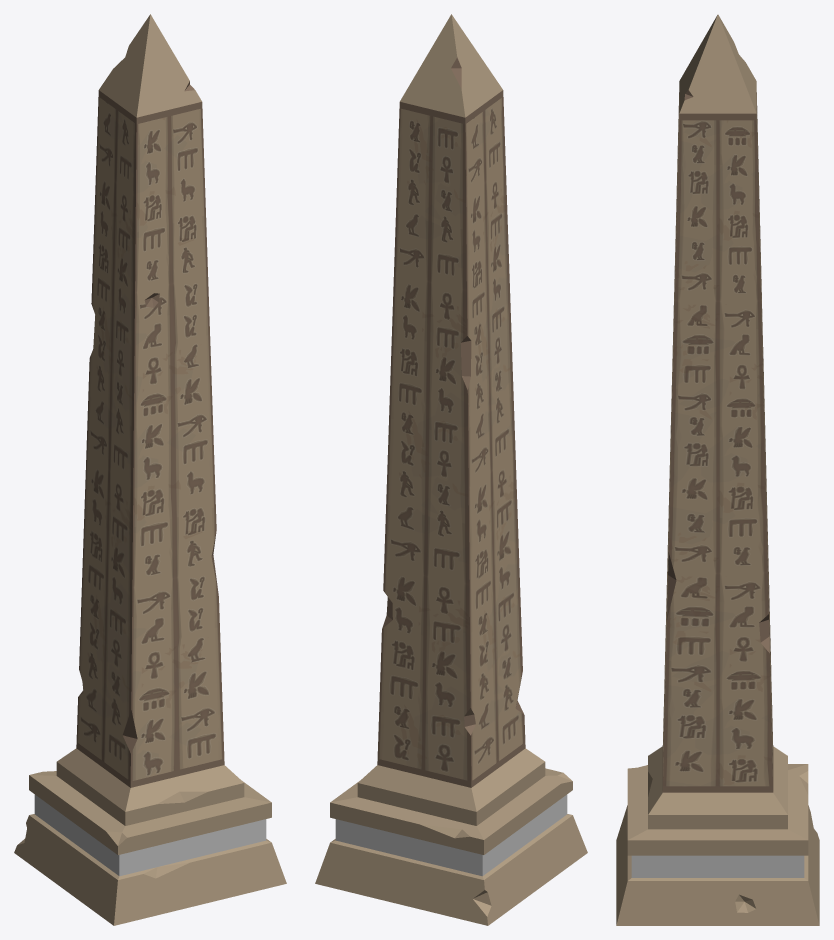
Rendered from SM_Bld_Obelisk_Medium_01.fbx.
3 views of the same model, side by side, from view 1: azimuth 30°, elevation 25°; view 2: azimuth 150°, elevation 25°; view 3: azimuth 270°, elevation 25° (orthographic).
Visible parts, largest first — view 1: SM_Bld_Obelisk_Medium_01; view 2: SM_Bld_Obelisk_Medium_01; view 3: SM_Bld_Obelisk_Medium_01.
Part boxes in pixels (left/top/right/bottom): SM_Bld_Obelisk_Medium_01: left=14, top=14, right=286, bottom=925; SM_Bld_Obelisk_Medium_01: left=315, top=14, right=587, bottom=925; SM_Bld_Obelisk_Medium_01: left=616, top=14, right=819, bottom=925.
Size of the model in its own units: 155 by 730 by 155.
